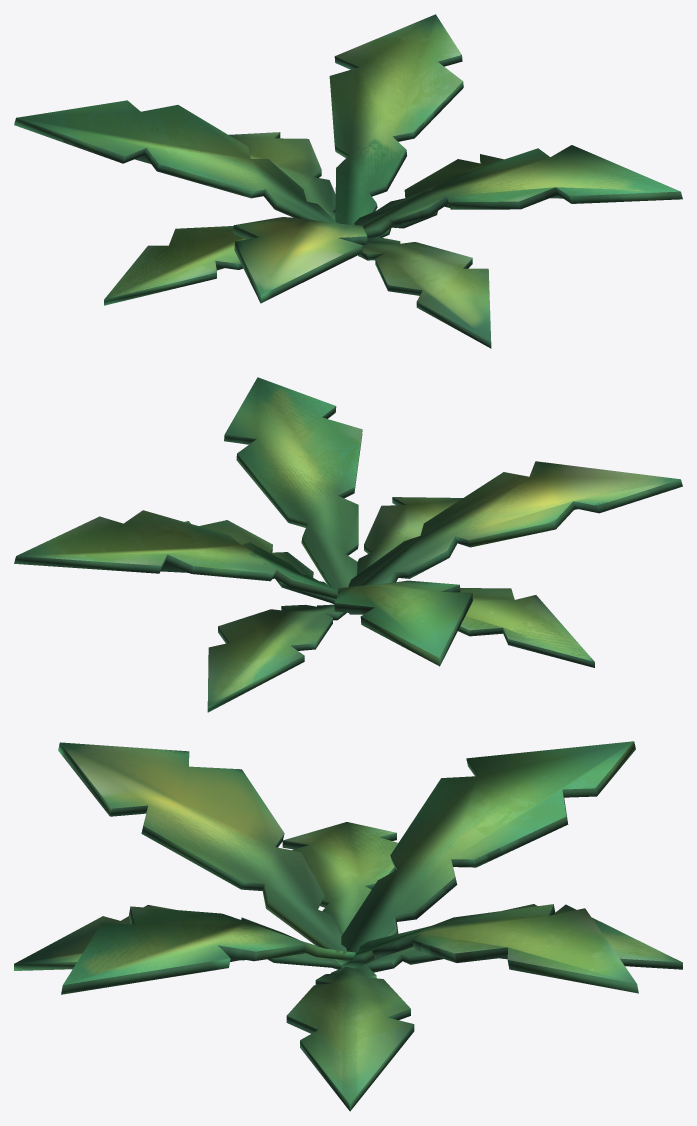
File: plant-style2.glb
3 renders of one model, top to bottom at view 1: azimuth 30°, elevation 25°; view 2: azimuth 150°, elevation 25°; view 3: azimuth 270°, elevation 25°, orthographic. The views are drawn at different scales.
Parts seen in each view (by area): view 1: Vert.004; view 2: Vert.004; view 3: Vert.004.
Boxes of the visible parts, x1,y1,x2,y2 form: Vert.004: (14,14,682,348); Vert.004: (14,377,682,712); Vert.004: (14,741,682,1111).
Bounding box in the file's own units: 19.56 × 3.82 × 19.56.
1 material, 1 textured.
